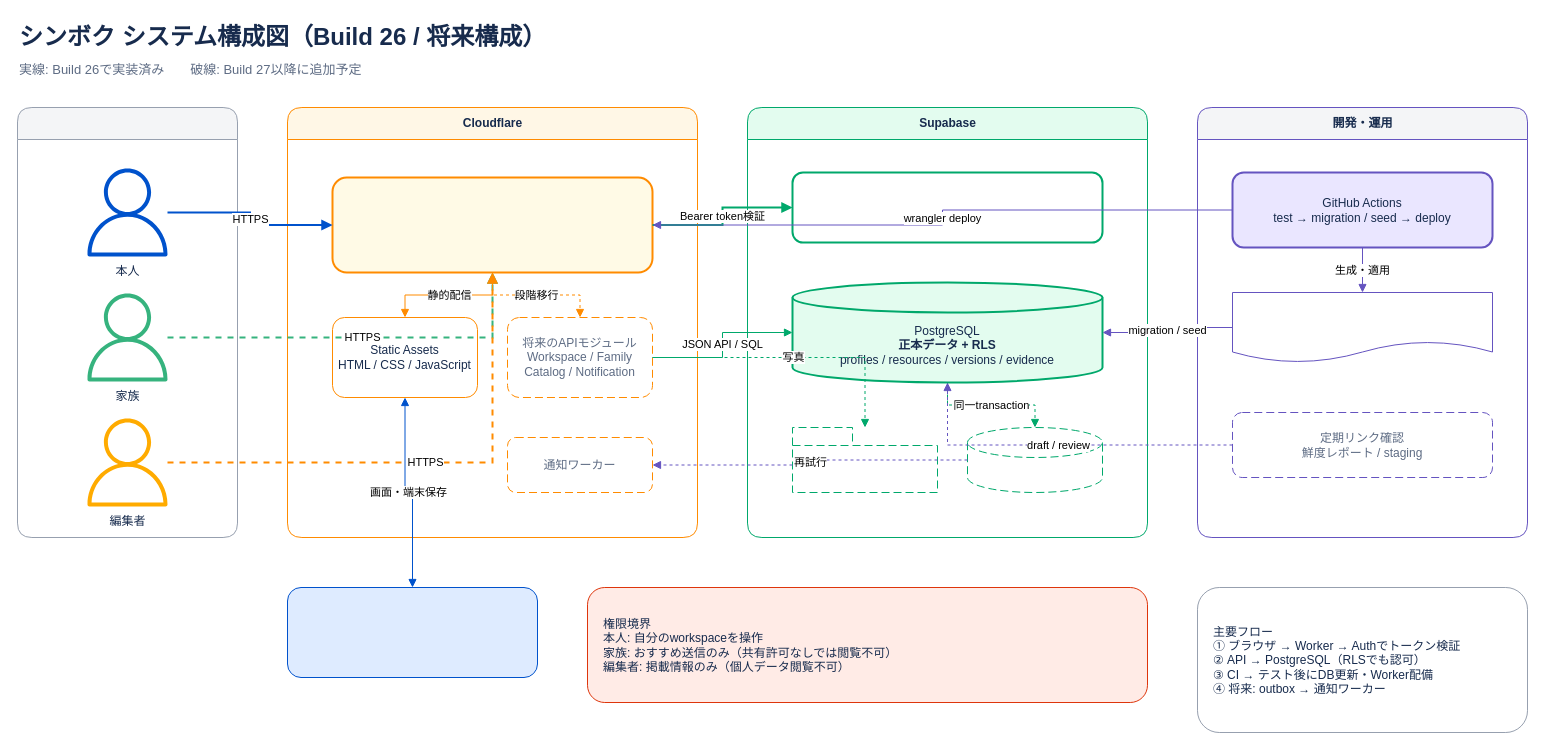
Image size: 1545x750. Some labels were removed from this diagram. The box of each missing label's shape, as (x1, y1, x2, y2) in pixels:
Cloudflare Worker Web + JSON API /api/v1/health・config・me: (331, 176, 653, 273)
outbox_events: (966, 426, 1102, 492)
Private Storage 写真（署名付き取得）: (792, 426, 938, 492)
SQL Migration + Seed 42件の公開カタログ: (1232, 292, 1492, 362)
Supabase Auth セッション / ユーザー検証: (791, 171, 1103, 243)
ブラウザ端末 現行: localStorage v2 将来: IndexedDBキャッシュ: (286, 586, 538, 678)
利用者: (16, 106, 238, 538)
